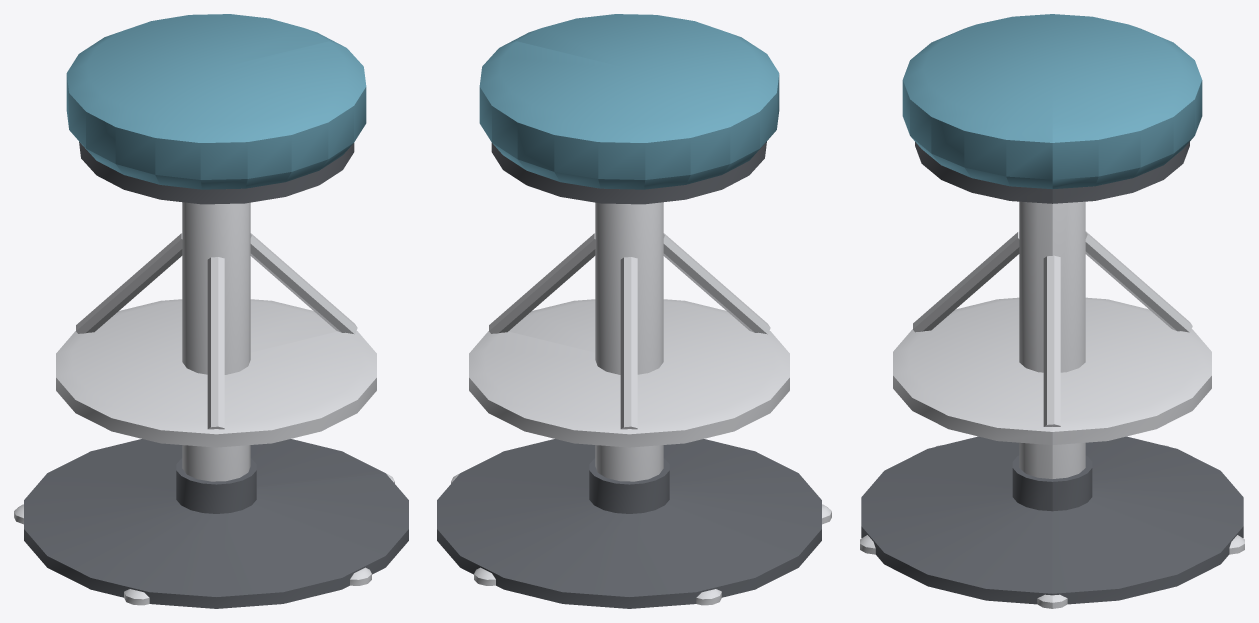
The model's file is university-lecture-hall-and-campus-lab-stool-36750536__34754.glb.
3 renders of one model, left to right at view 1: azimuth 30°, elevation 25°; view 2: azimuth 150°, elevation 25°; view 3: azimuth 270°, elevation 25°, orthographic.
Visible parts, largest first — view 1: lab-stool; view 2: lab-stool; view 3: lab-stool.
Part boxes in pixels (x1,y1,x2,y2): lab-stool: (14, 14, 408, 608); lab-stool: (437, 14, 831, 608); lab-stool: (860, 14, 1244, 608).
Size of the model in its own units: 0.49 by 0.62 by 0.4756.
